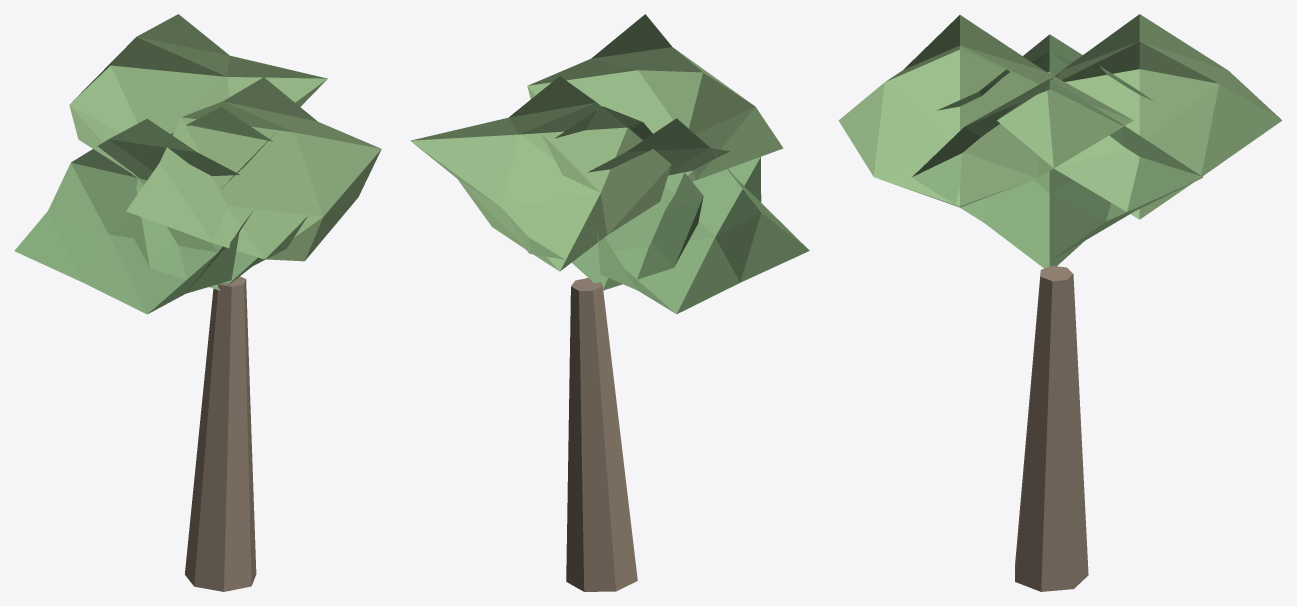
The model's file is broadleaf_v33.glb.
3 views of the same model, side by side, from view 1: azimuth 30°, elevation 25°; view 2: azimuth 150°, elevation 25°; view 3: azimuth 270°, elevation 25° (orthographic). The views are drawn at different scales.
Visible parts, largest first — view 1: lod0; view 2: lod0; view 3: lod0.
Part boxes in pixels (x1,y1,x2,y2): lod0: [14, 14, 381, 591]; lod0: [410, 14, 809, 591]; lod0: [838, 14, 1281, 591].
Size of what is drawn, in the model's own units: 4.03 by 5.76 by 4.12.
